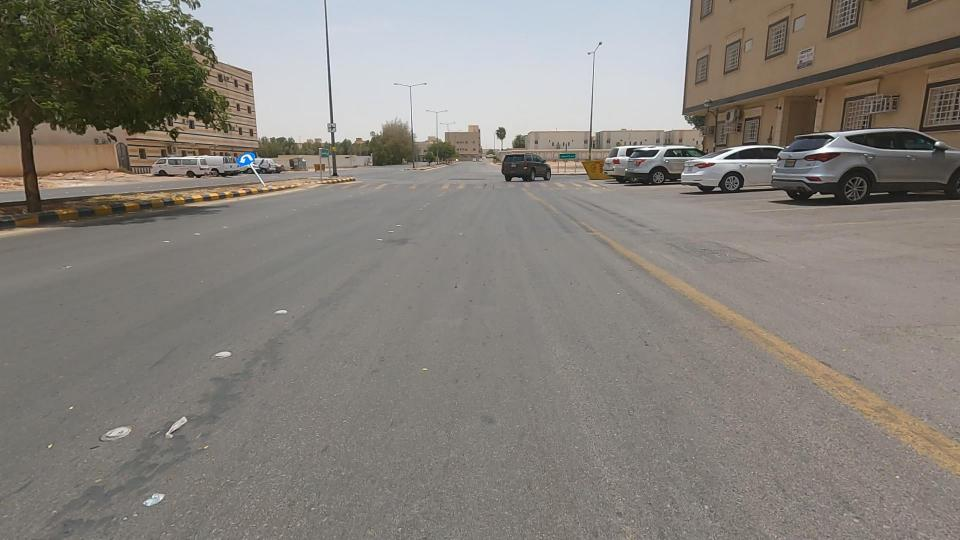BROKEN_SIGNAGE: (204, 119, 287, 226)
